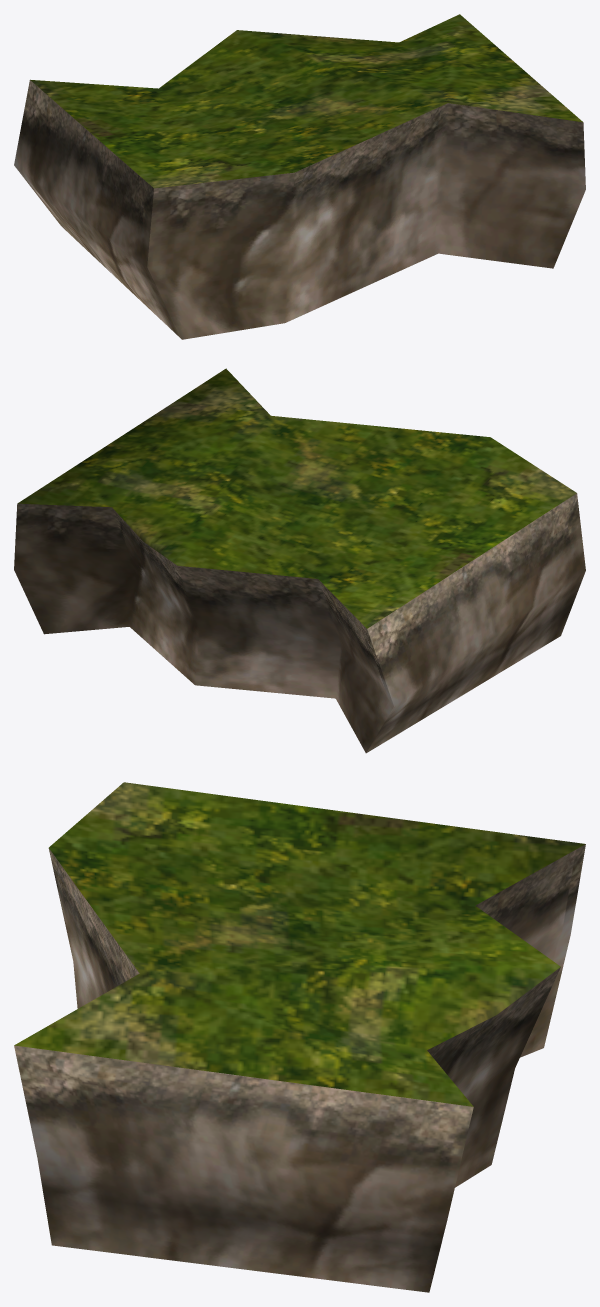
File: ANIMATEDINSTANCES_BAT_ROCKFALL_01__BA.fbx
The picture shows the model from 3 angles, top to bottom: view 1: azimuth 30°, elevation 25°; view 2: azimuth 150°, elevation 25°; view 3: azimuth 270°, elevation 25°; orthographic projection. The views are drawn at different scales.
Parts seen in each view (by area): view 1: ANIMATEDINSTANCES_BAT_ROCKFALL_01__BA; view 2: ANIMATEDINSTANCES_BAT_ROCKFALL_01__BA; view 3: ANIMATEDINSTANCES_BAT_ROCKFALL_01__BA.
Boxes of the visible parts, x1=… form: ANIMATEDINSTANCES_BAT_ROCKFALL_01__BA: x1=14, y1=14, x2=585, y2=339; ANIMATEDINSTANCES_BAT_ROCKFALL_01__BA: x1=14, y1=368, x2=585, y2=753; ANIMATEDINSTANCES_BAT_ROCKFALL_01__BA: x1=14, y1=782, x2=585, y2=1292.
Bounding box in the file's own units: 13373 × 4869 × 10564.
Materials: 3 (3 with a texture image).
